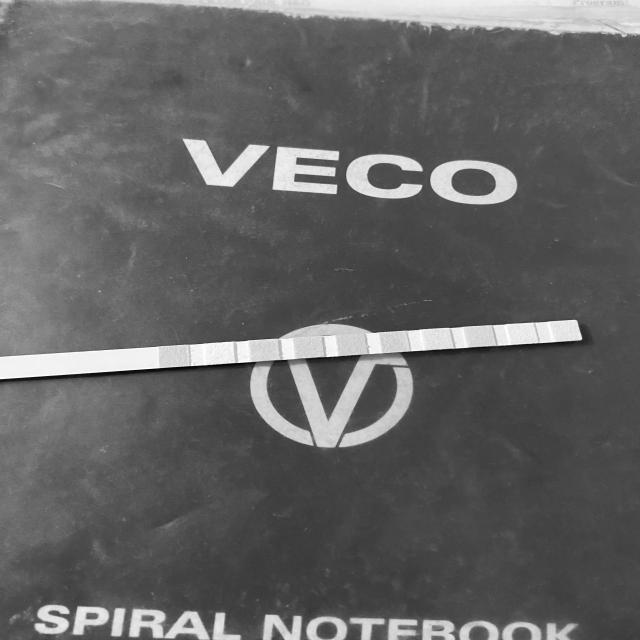Bilirubin: (205, 344, 234, 363)
Blood: (337, 335, 365, 354)
Glucose: (159, 347, 189, 366)
Ketone: (250, 341, 279, 360)
Leukocytes: (553, 321, 577, 341)
Nitrite: (509, 324, 534, 343)
Protein: (424, 329, 449, 349)
SpGravity: (296, 338, 322, 357)
Urobilinogen: (466, 327, 492, 346)
background: (0, 0, 640, 640)
pH: (382, 332, 407, 352)
strip: (0, 319, 582, 379)
